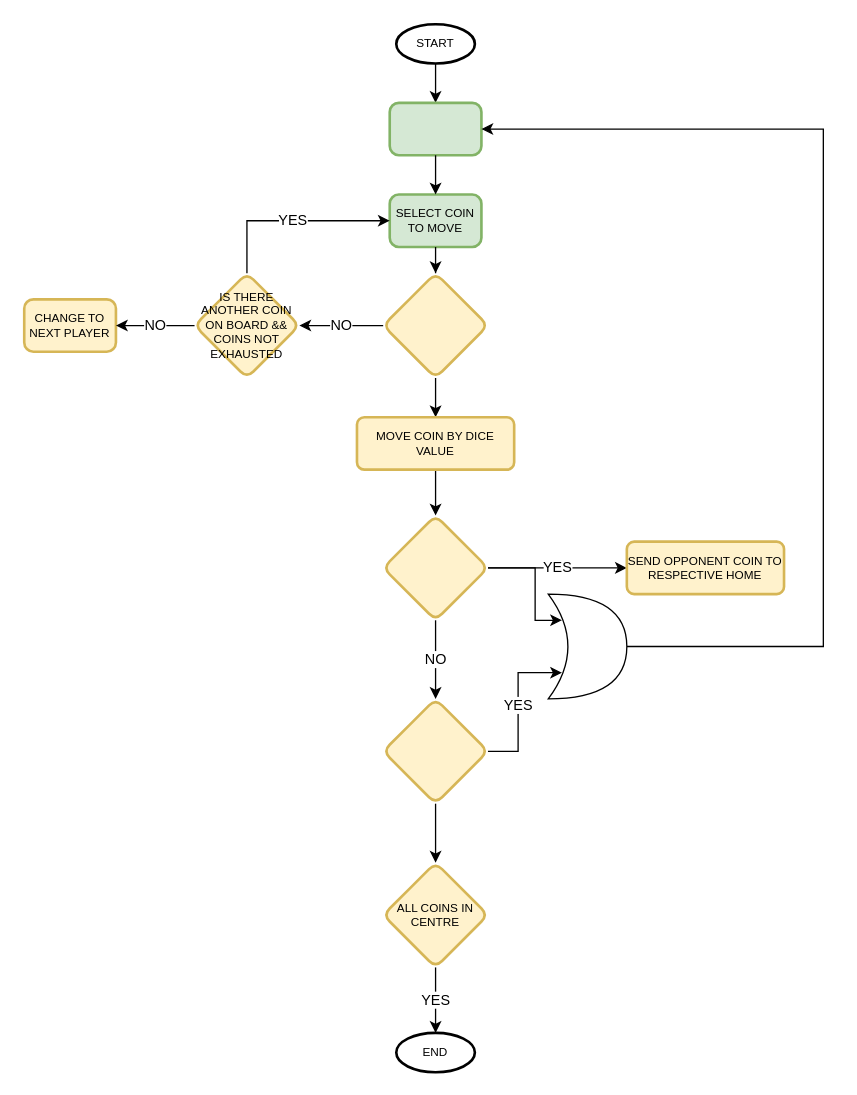
Image size: 857x1095. Some labels were removed from this diagram. The centre of each missing label's shape, as x and y in pixels:
"DICE VALUE = 4 || 8 || 1 COIN REACHES CENTRE" belongs at (x=435, y=750).
"FINAL POSITION< END POSITION" belongs at (x=435, y=325).
"OPPONENT COIN PRESENT" belongs at (x=435, y=567).
"ROLL DICE" belongs at (x=435, y=128).
